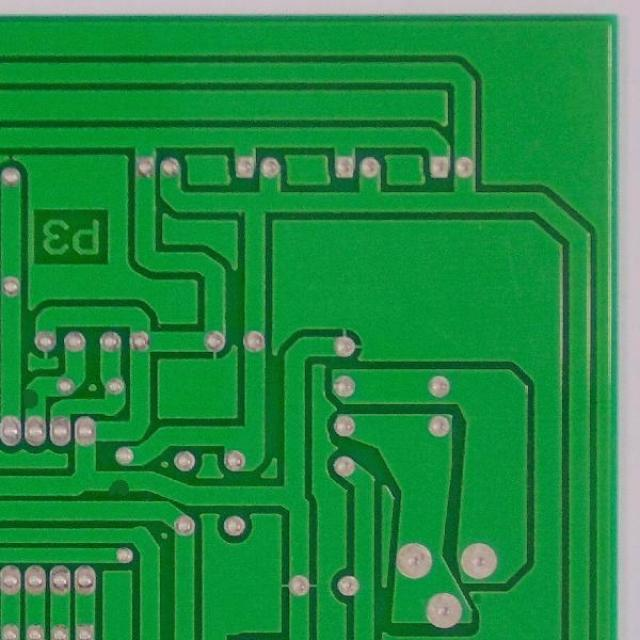MouseBite: (99, 476, 135, 498), (22, 382, 42, 410)
